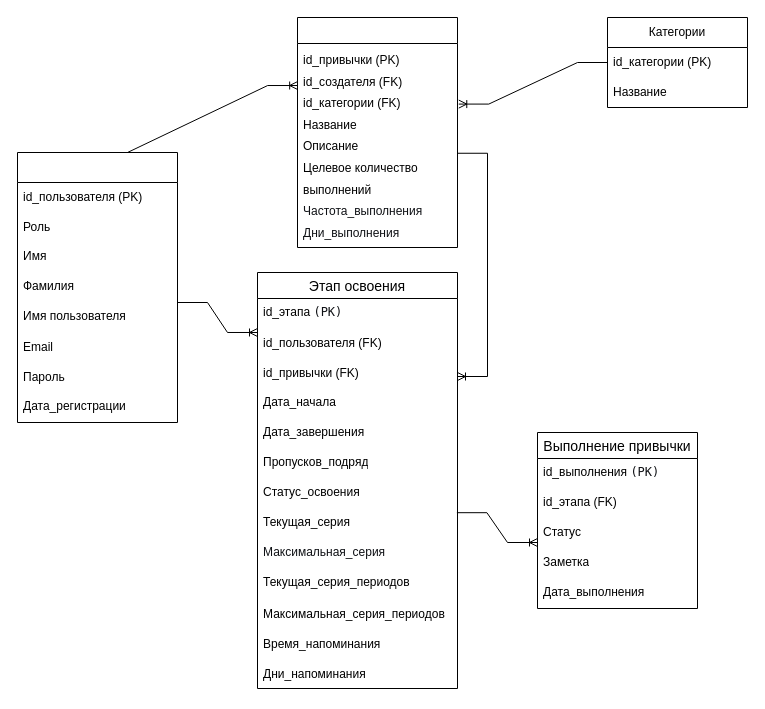
Image size: 765x709. Some labels were removed from this diagram. Each missing label, with the box of its shape:
Пользователь: (16, 152, 178, 422)
Привычка: (296, 16, 458, 248)
